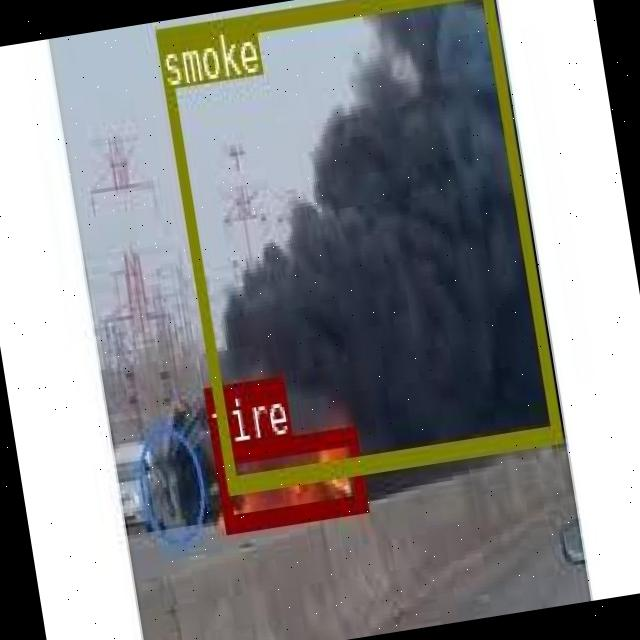fire: (212, 424, 366, 532)
smoke: (153, 0, 560, 489)
